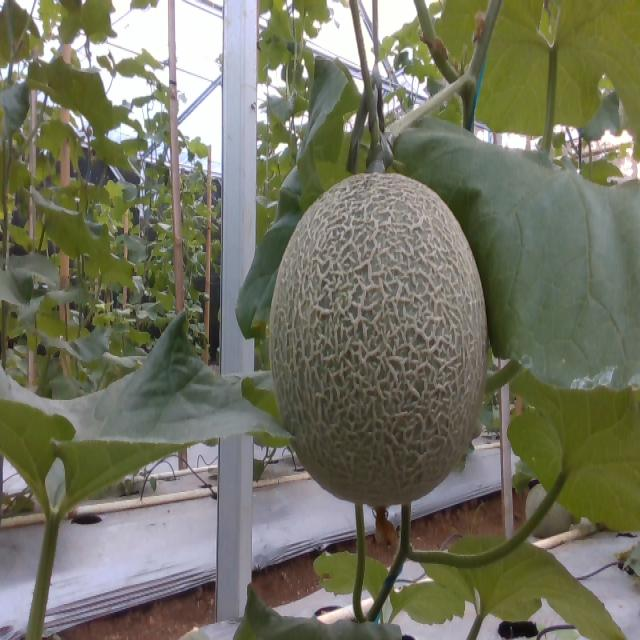melon: (270, 173, 489, 507)
